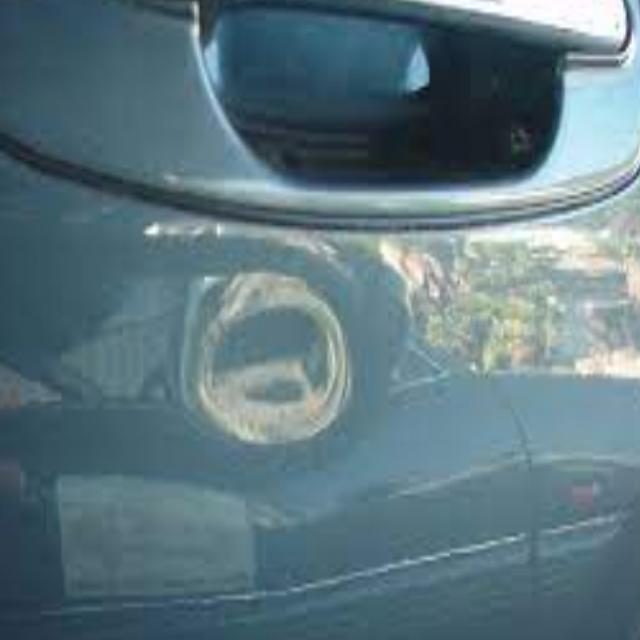dents: (192, 286, 351, 442)
